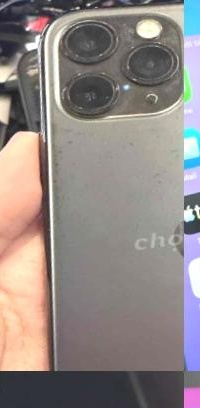scratch: (25, 0, 184, 236)
